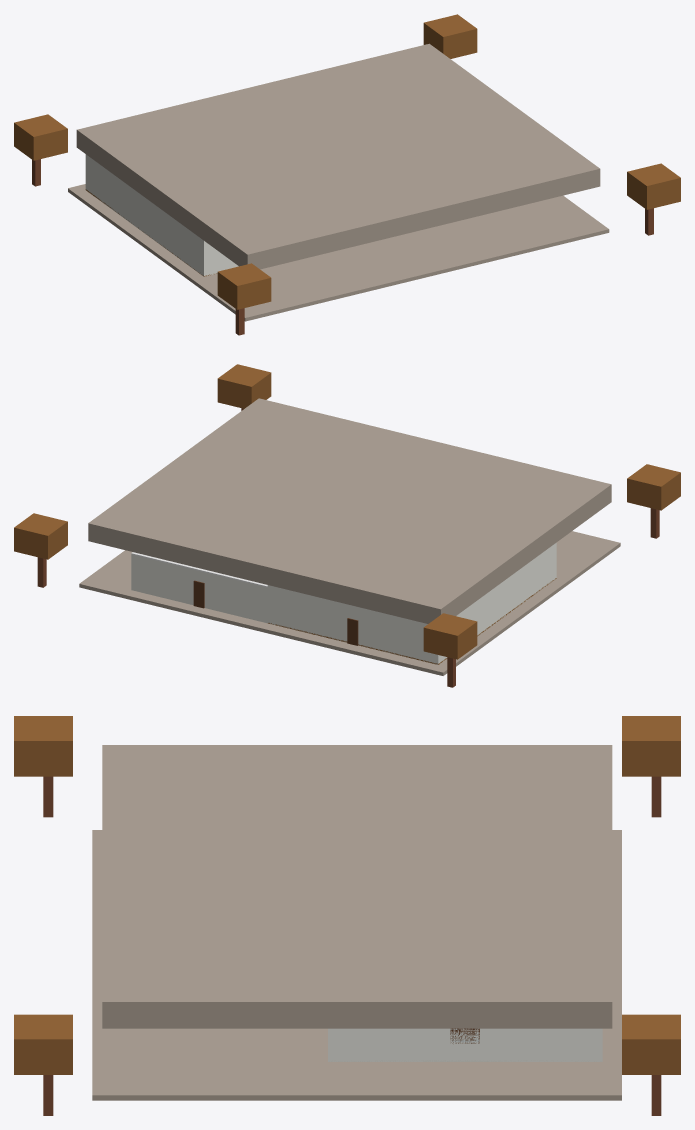
The model's file is enhanced_boq_fallback_1751738219666_tzu4w581b.obj.
3 views of the same model, one above another, from view 1: azimuth 30°, elevation 25°; view 2: azimuth 150°, elevation 25°; view 3: azimuth 270°, elevation 25° (orthographic). The views are drawn at different scales.
Visible parts, largest first — view 1: Roof, Foundation, Wall_Left_0, TreeFoliage_2, TreeFoliage_0, TreeFoliage_3, TreeFoliage_1, Wall_Back_0; view 2: Roof, Foundation, Wall_Front_0, Wall_Front_1, Wall_Left_0, TreeFoliage_0, TreeFoliage_1, TreeFoliage_2, TreeFoliage_3; view 3: Roof, Foundation, Wall_Right_1, TreeFoliage_0, TreeFoliage_1, TreeFoliage_2, TreeFoliage_3.
Part boxes in pixels (left/top/right/bottom): Roof: left=76, top=43, right=600, bottom=269; Foundation: left=68, top=184, right=609, bottom=321; Wall_Left_0: left=86, top=155, right=205, bottom=276; TreeFoliage_2: left=217, top=263, right=271, bottom=309; TreeFoliage_0: left=14, top=114, right=67, bottom=160; TreeFoliage_3: left=627, top=163, right=680, bottom=209; TreeFoliage_1: left=423, top=14, right=477, bottom=58; Wall_Back_0: left=202, top=240, right=238, bottom=276; Roof: left=88, top=398, right=611, bottom=623; Foundation: left=79, top=531, right=620, bottom=675; Wall_Front_0: left=267, top=585, right=439, bottom=664; Wall_Front_1: left=131, top=554, right=267, bottom=622; Wall_Left_0: left=436, top=542, right=556, bottom=664; TreeFoliage_0: left=423, top=613, right=477, bottom=659; TreeFoliage_1: left=14, top=513, right=67, bottom=559; TreeFoliage_2: left=627, top=464, right=680, bottom=510; TreeFoliage_3: left=217, top=364, right=271, bottom=408; Roof: left=102, top=745, right=612, bottom=1028; Foundation: left=92, top=830, right=621, bottom=1100; Wall_Right_1: left=328, top=1028, right=602, bottom=1061; TreeFoliage_0: left=622, top=716, right=680, bottom=776; TreeFoliage_1: left=622, top=1014, right=680, bottom=1074; TreeFoliage_2: left=14, top=716, right=72, bottom=776; TreeFoliage_3: left=14, top=1014, right=72, bottom=1074.
Size of the model in its own units: 39 by 5.3 by 34.
